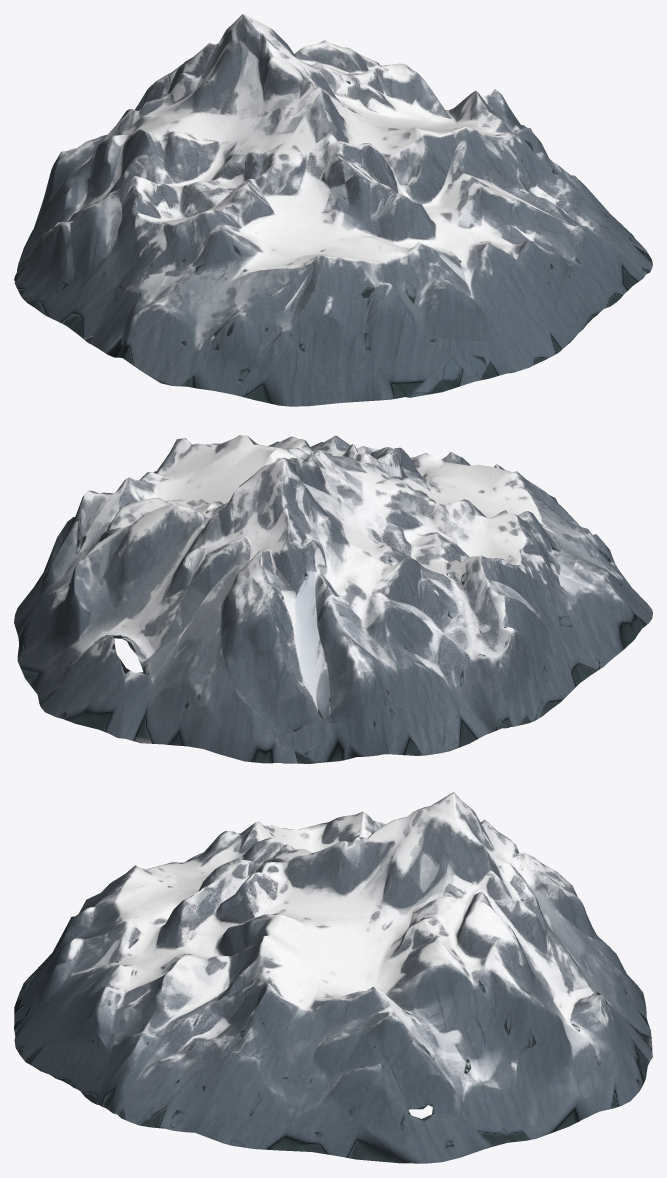
Rendered from mountain.glb.
3 views of the same model, one above another, from view 1: azimuth 30°, elevation 25°; view 2: azimuth 150°, elevation 25°; view 3: azimuth 270°, elevation 25° (orthographic). The views are drawn at different scales.
Size of the model in its own units: 1.83 by 0.7651 by 1.9.
1 material, 1 textured.
